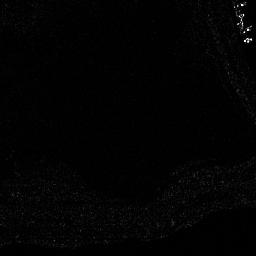ship: (232, 1, 255, 45)
